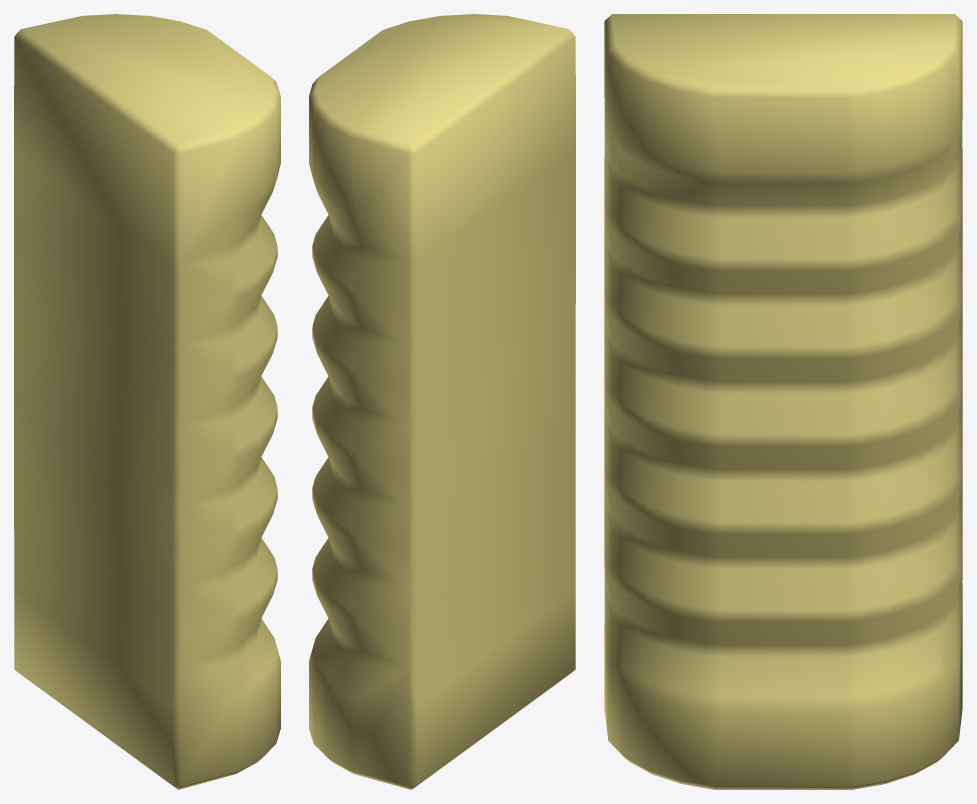
Rendered from truss-padding.fbx.
3 views of the same model, side by side, from view 1: azimuth 30°, elevation 25°; view 2: azimuth 150°, elevation 25°; view 3: azimuth 270°, elevation 25° (orthographic). The views are drawn at different scales.
Visible parts, largest first — view 1: gantry-side-2.022; view 2: gantry-side-2.022; view 3: gantry-side-2.022.
Part boxes in pixels (left/top/right/bottom): gantry-side-2.022: left=14, top=14, right=280, bottom=789; gantry-side-2.022: left=309, top=14, right=575, bottom=789; gantry-side-2.022: left=604, top=14, right=962, bottom=789.
Bounding box in the file's own units: 37.02 × 151 × 69.8.
